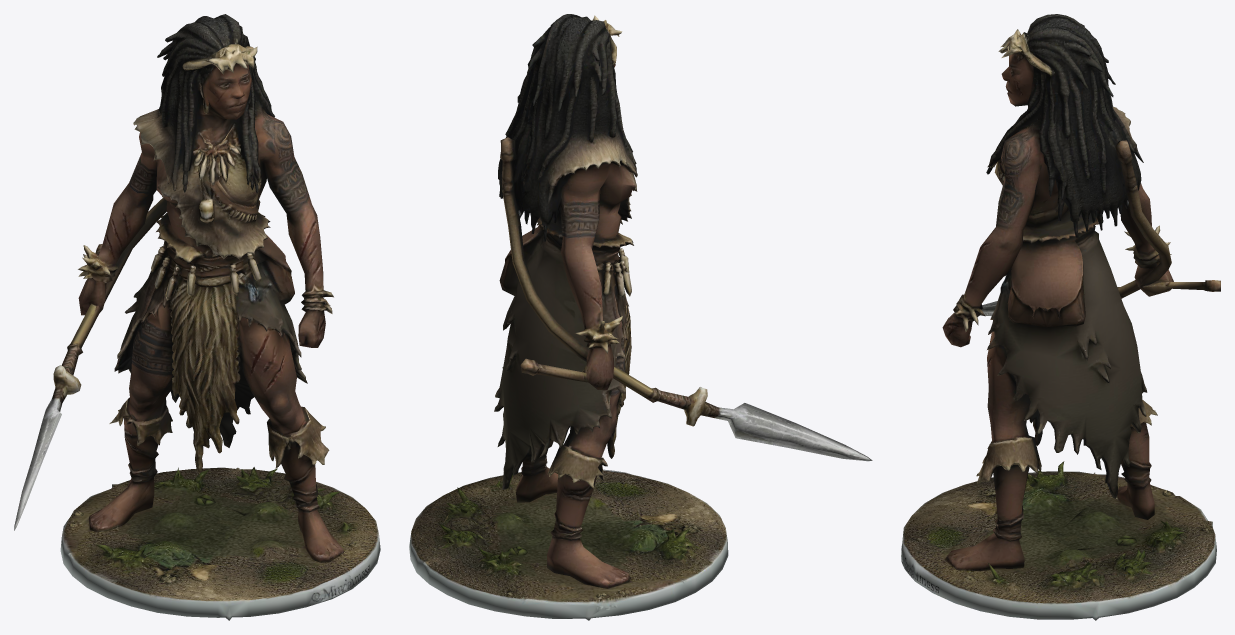
Rendered from barbarian_alt1_female.glb.
The picture shows the model from 3 angles, left to right: view 1: azimuth 30°, elevation 25°; view 2: azimuth 150°, elevation 25°; view 3: azimuth 270°, elevation 25°; orthographic projection.
Parts seen in each view (by area): view 1: tripo_node_a801b5b2-680a-40be-b4c0-67bcb625c54e; view 2: tripo_node_a801b5b2-680a-40be-b4c0-67bcb625c54e; view 3: tripo_node_a801b5b2-680a-40be-b4c0-67bcb625c54e.
Boxes of the visible parts, box(x1,y1,x2,y2) form: tripo_node_a801b5b2-680a-40be-b4c0-67bcb625c54e: box(14, 14, 380, 620); tripo_node_a801b5b2-680a-40be-b4c0-67bcb625c54e: box(409, 14, 872, 620); tripo_node_a801b5b2-680a-40be-b4c0-67bcb625c54e: box(901, 14, 1220, 620).
Bounding box in the file's own units: 0.7672 × 0.998 × 0.5457.
1 material, 1 textured.
